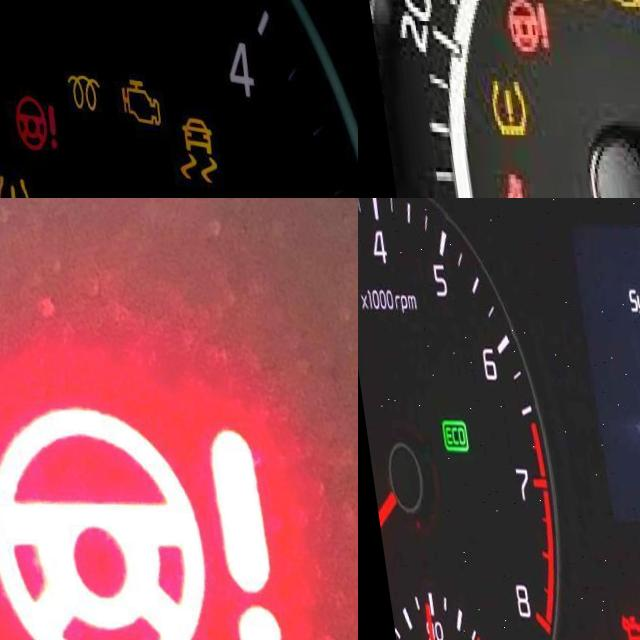Electronic Power Steering: (0, 398, 275, 640), (0, 92, 56, 159), (493, 0, 548, 58)
Seat Belt: (485, 172, 526, 198)
